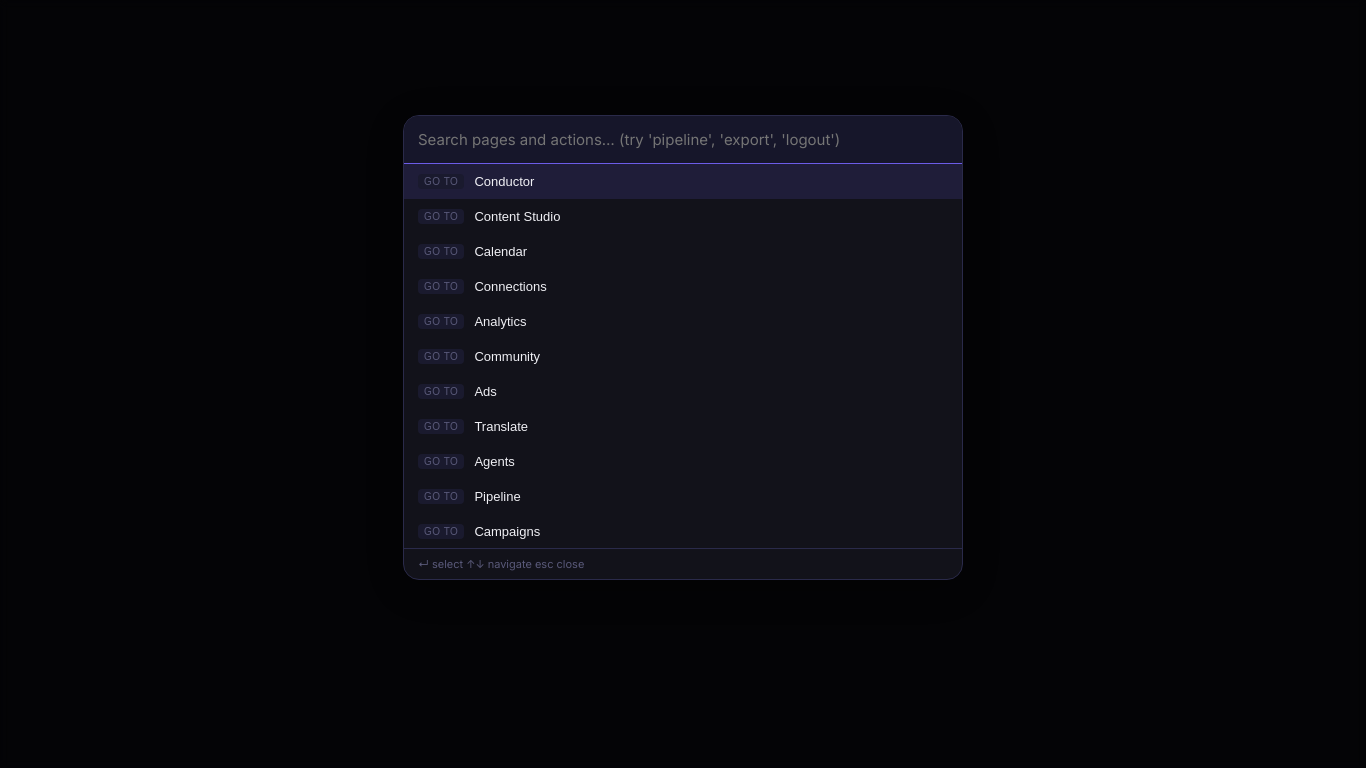
Test: CommandPalette › filters items as the user types
In the field: [683, 140] box left=404, top=116, right=962, bottom=164, type "pipeline"
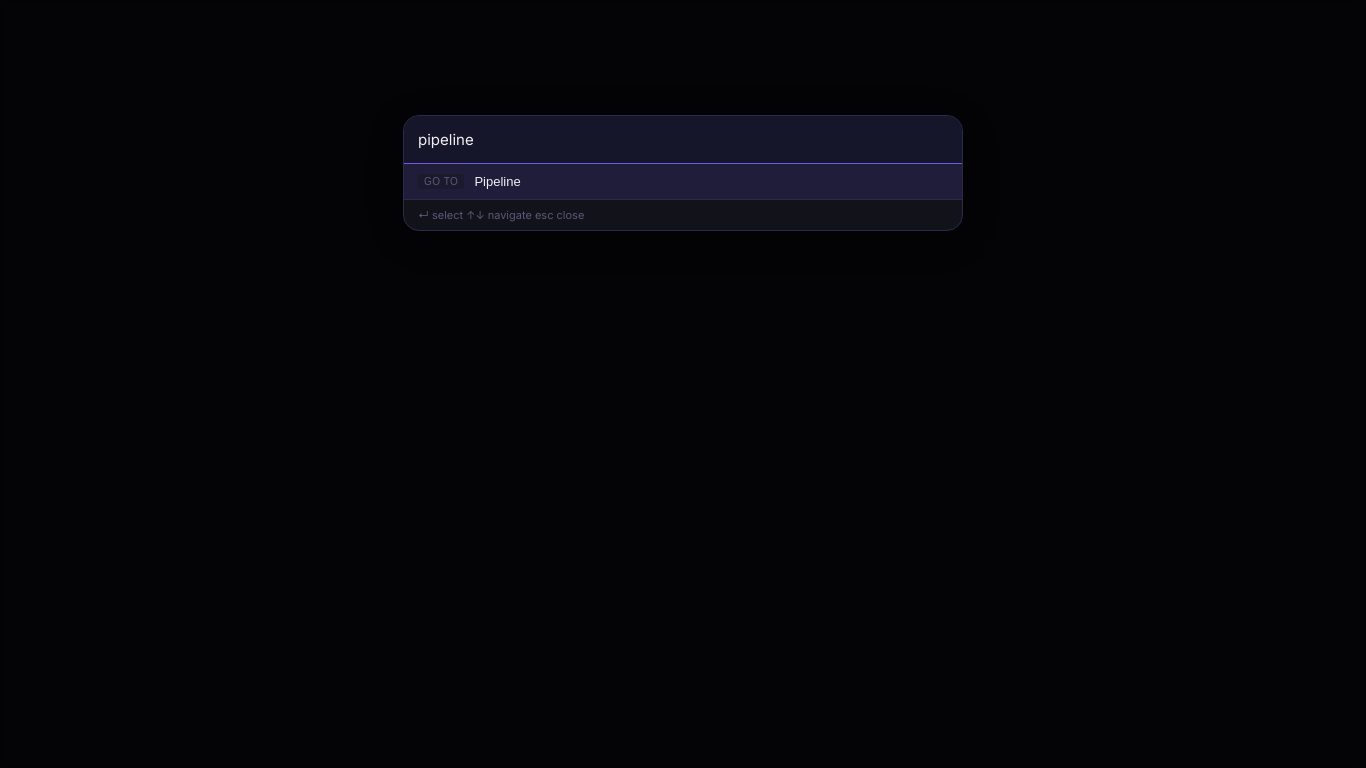
Check: the text "Pipeline" is shown, box left=474, top=174, right=521, bottom=189
Check: the button "Content Studio" is gone
